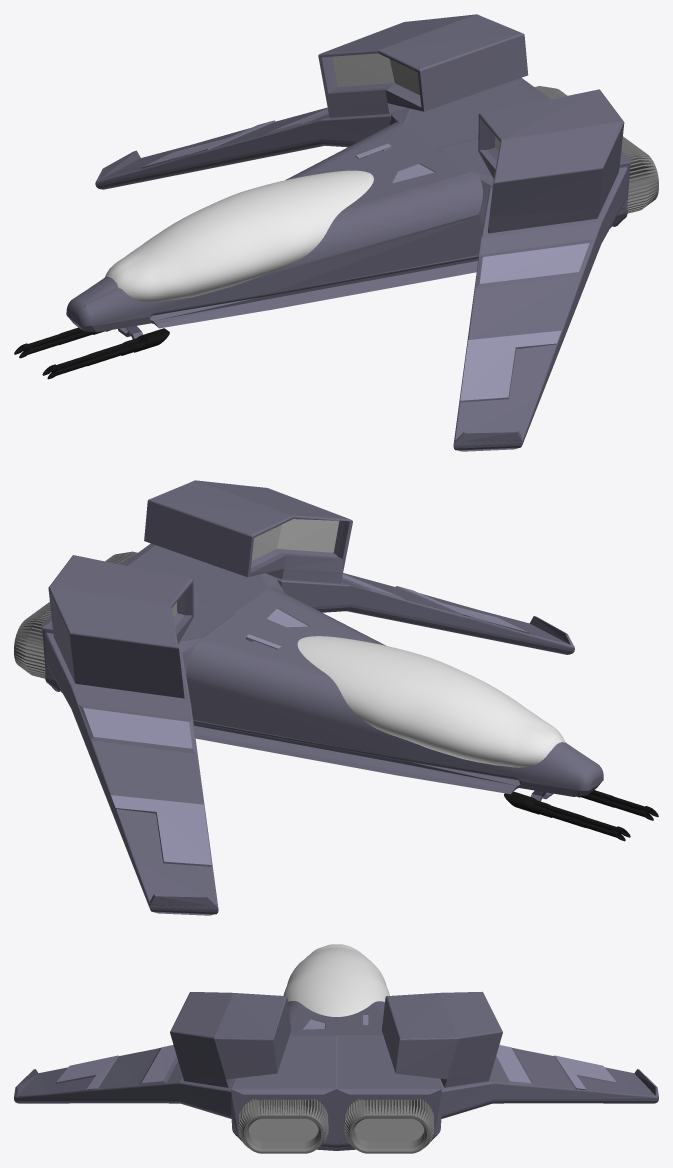
The model's file is spaceship_v2.fbx.
The picture shows the model from 3 angles, top to bottom: view 1: azimuth 30°, elevation 25°; view 2: azimuth 150°, elevation 25°; view 3: azimuth 270°, elevation 25°; orthographic projection. The views are drawn at different scales.
Parts seen in each view (by area): view 1: spaceship, windshield, weaponLeft, weaponRight; view 2: spaceship, windshield, weaponRight, weaponLeft; view 3: spaceship, windshield, booster.
Part boxes in pixels (left/top/right/bottom): spaceship: left=66, top=14, right=658, bottom=451; windshield: left=105, top=170, right=373, bottom=302; weaponLeft: left=42, top=328, right=169, bottom=379; weaponRight: left=14, top=327, right=110, bottom=358; spaceship: left=14, top=480, right=603, bottom=915; windshield: left=297, top=636, right=564, bottom=767; weaponRight: left=504, top=791, right=630, bottom=841; weaponLeft: left=577, top=790, right=658, bottom=820; spaceship: left=14, top=991, right=658, bottom=1153; windshield: left=283, top=944, right=389, bottom=1016; booster: left=248, top=1118, right=424, bottom=1141.
Bounding box in the file's own units: 717 × 229 × 834.
